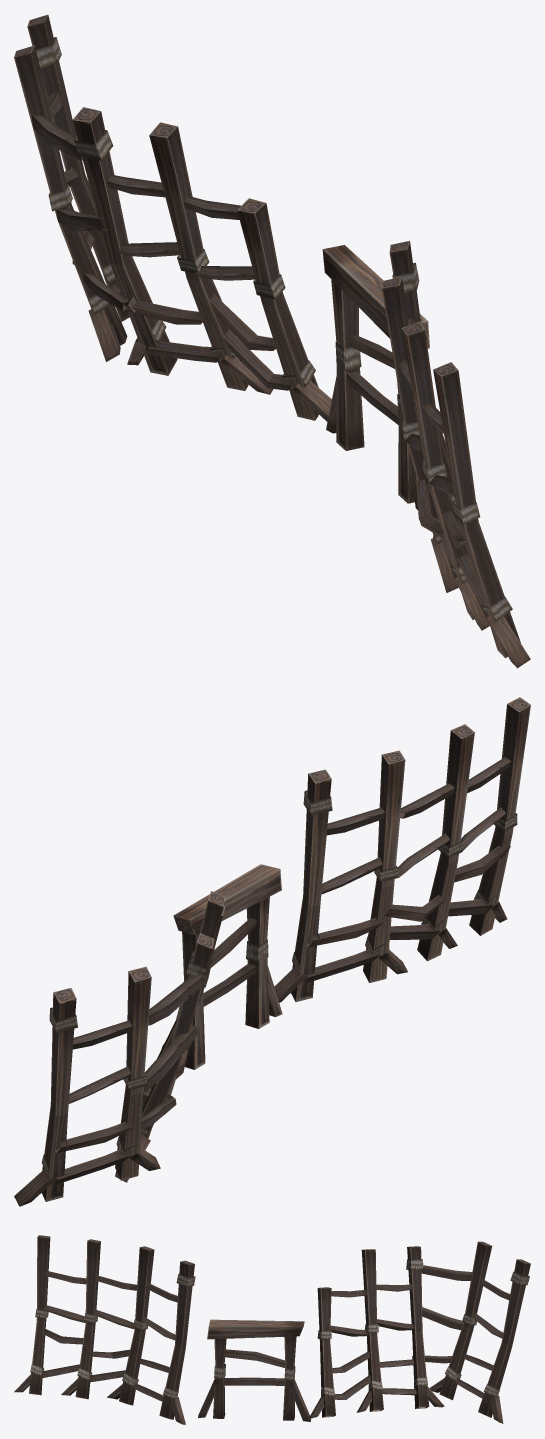
Rendered from object_mine_reinforcements02.fbx.
The picture shows the model from 3 angles, top to bottom: view 1: azimuth 30°, elevation 25°; view 2: azimuth 150°, elevation 25°; view 3: azimuth 270°, elevation 25°; orthographic projection. The views are drawn at different scales.
Visible parts, largest first — view 1: obj0.077; view 2: obj0.077; view 3: obj0.077.
Boxes of the visible parts, box(x1,y1,x2,y2) form: obj0.077: box(14, 14, 530, 668); obj0.077: box(14, 697, 530, 1206); obj0.077: box(14, 1235, 530, 1424).
Size of the model in its own units: 6.56 by 10.75 by 32.77.
